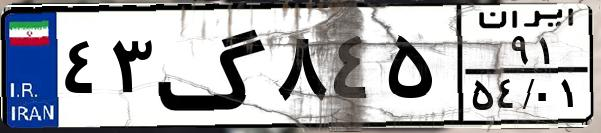0: (535, 70, 560, 125)
1: (560, 70, 590, 125), (537, 27, 568, 80)
3: (110, 28, 156, 98)
4: (330, 28, 385, 110), (57, 26, 110, 100), (495, 70, 520, 125)
5: (385, 28, 445, 110), (470, 70, 495, 125)
8: (270, 28, 330, 110)
9: (508, 27, 537, 80)
گ: (156, 12, 270, 120)
